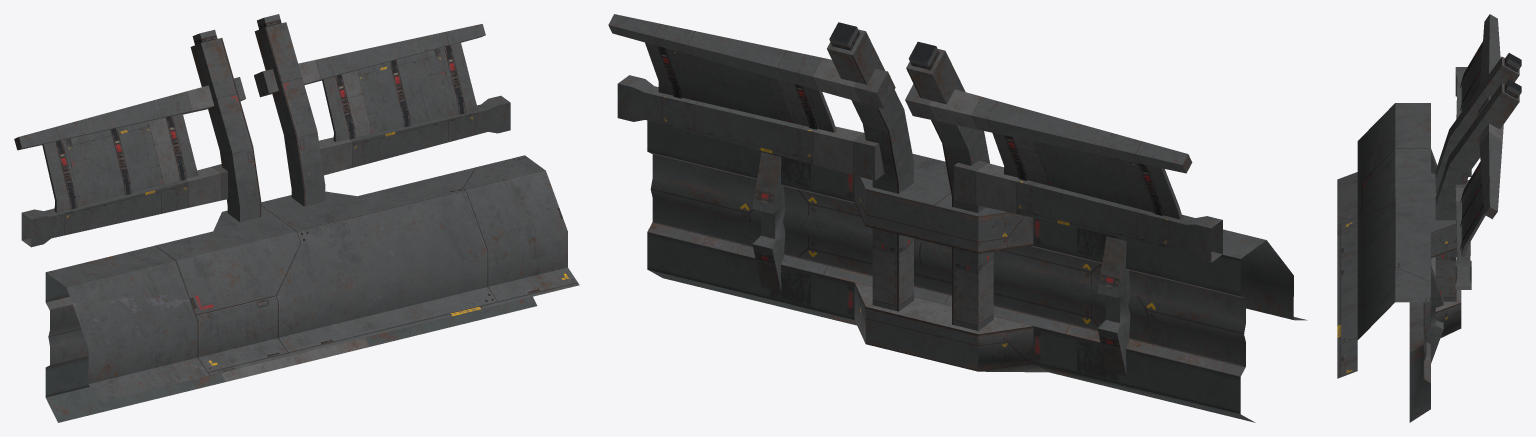
Rendered from ARC0910131.fbx.
The picture shows the model from 3 angles, left to right: view 1: azimuth 30°, elevation 25°; view 2: azimuth 150°, elevation 25°; view 3: azimuth 270°, elevation 25°; orthographic projection. The views are drawn at different scales.
Parts seen in each view (by area): view 1: smARC0910131; view 2: smARC0910131; view 3: smARC0910131.
Boxes of the visible parts, x1,y1,x2,y2 form: smARC0910131: (14, 14, 579, 422); smARC0910131: (608, 14, 1307, 422); smARC0910131: (1337, 14, 1521, 422).
Bounding box in the file's own units: 400 × 238 × 156.
1 material, 1 textured.
